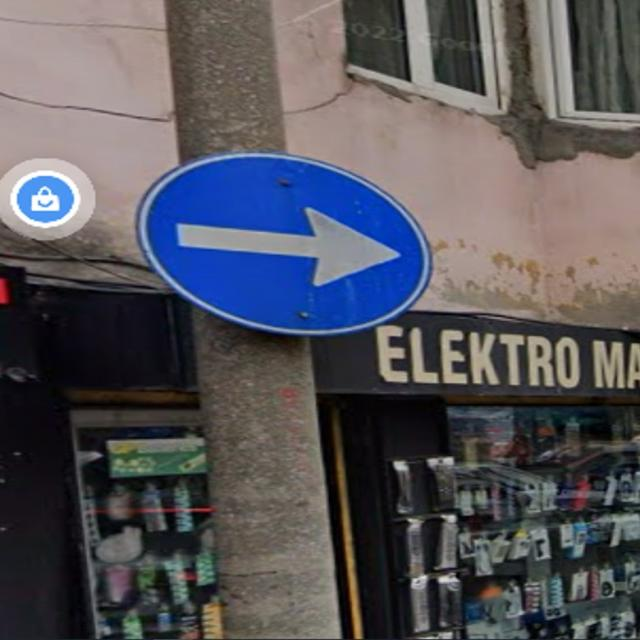Turn Right: (117, 147, 437, 340)
